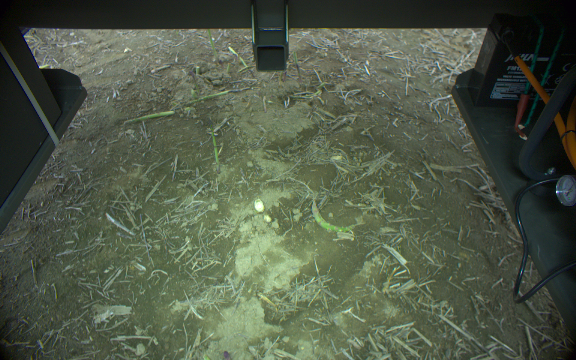aspa: (309, 198, 355, 235), (204, 120, 224, 175), (184, 85, 252, 100), (225, 45, 255, 78), (122, 109, 176, 121), (206, 29, 219, 66), (188, 71, 203, 102)
